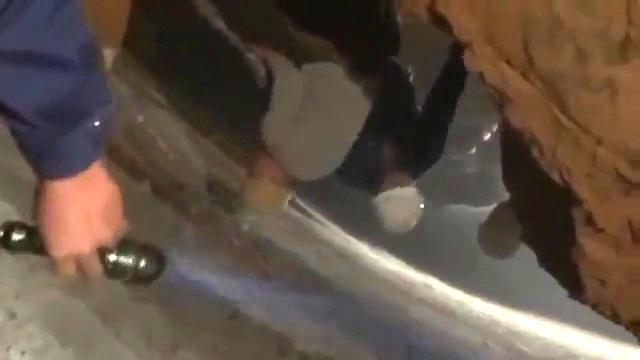helmet: (237, 150, 297, 221), (370, 170, 426, 235), (475, 198, 524, 259)
